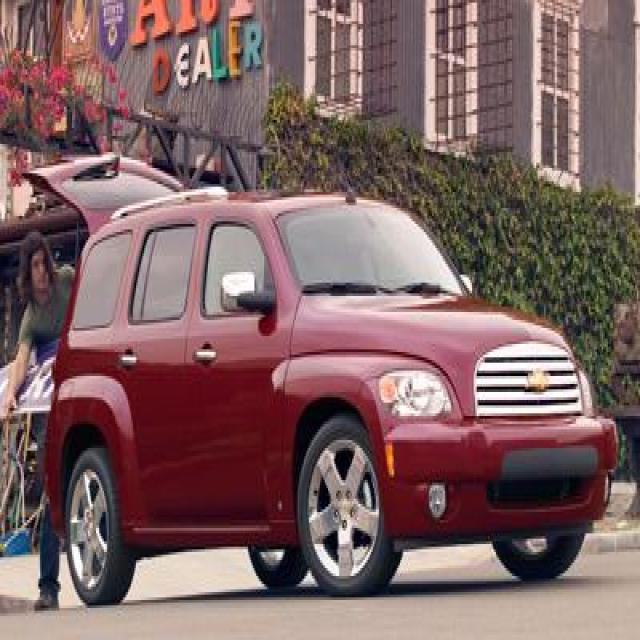Car: (49, 163, 626, 605)
